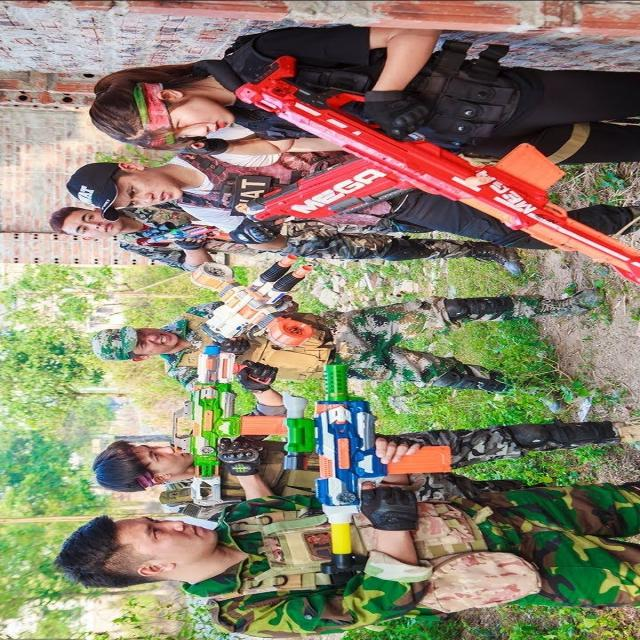Nerf gun: (237, 57, 639, 295), (272, 348, 466, 582), (156, 347, 302, 512), (237, 146, 438, 230), (182, 254, 336, 354), (120, 209, 226, 269)
